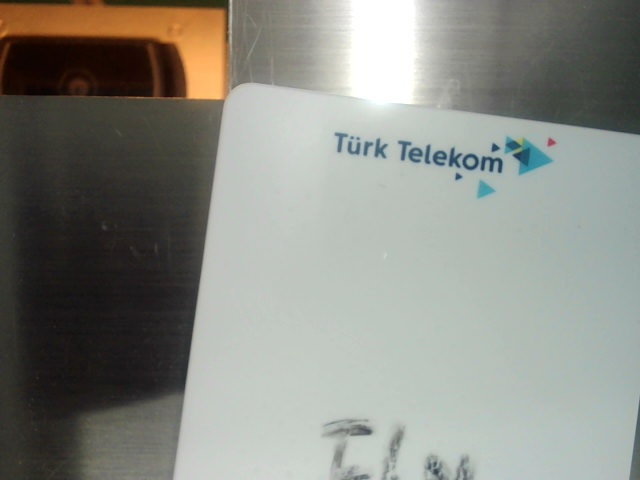AQ_TURKTelekom: (334, 112, 565, 202)
